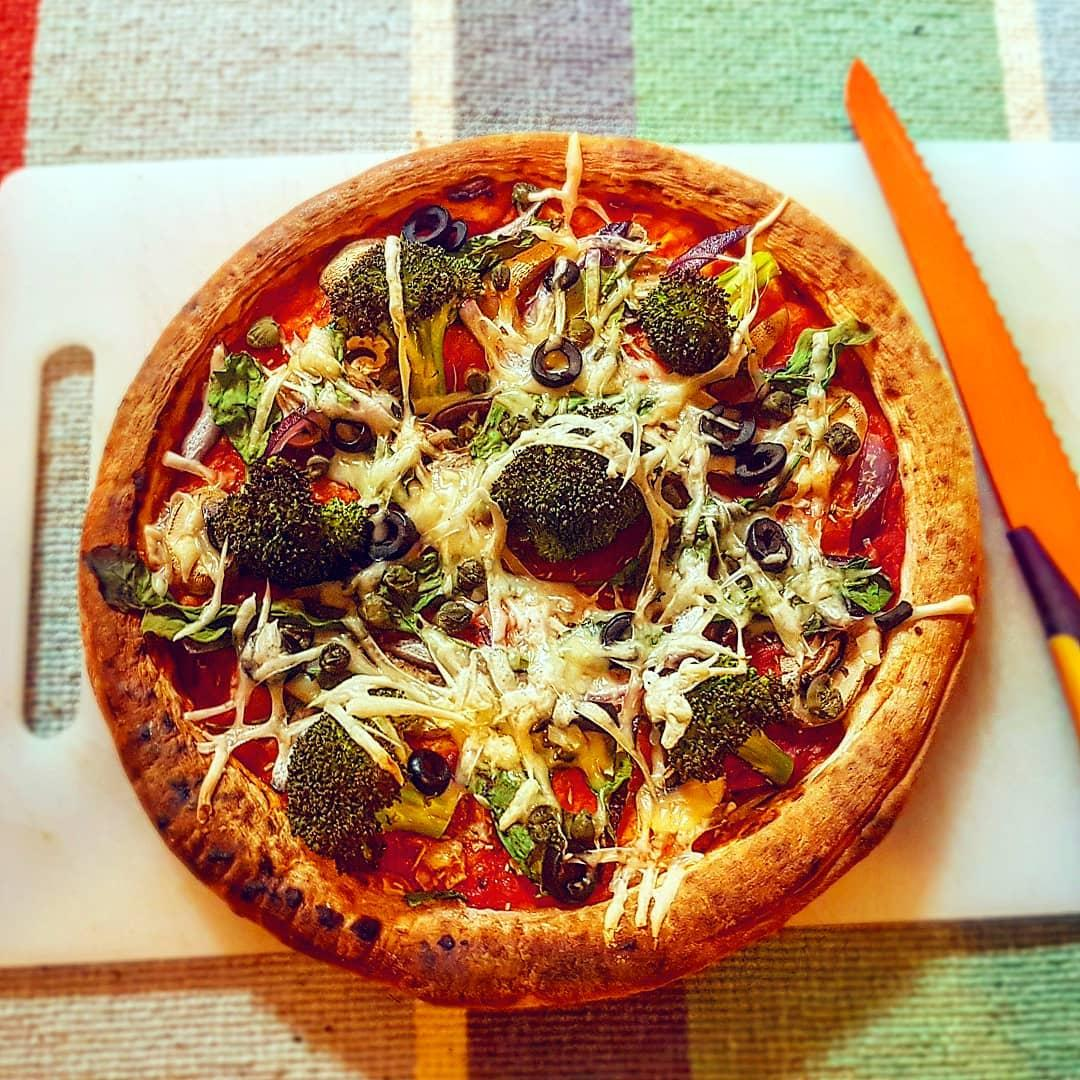Broccoli: (280, 716, 463, 877), (331, 244, 459, 405), (490, 438, 648, 568), (659, 665, 803, 803), (212, 466, 377, 582), (643, 247, 782, 377)
Olives: (699, 395, 787, 482), (541, 834, 601, 910), (530, 332, 585, 388), (366, 505, 416, 564), (745, 518, 794, 572), (407, 205, 467, 248), (408, 745, 449, 797), (328, 414, 375, 455), (601, 611, 636, 648)
Pizza: (83, 132, 988, 1005)
